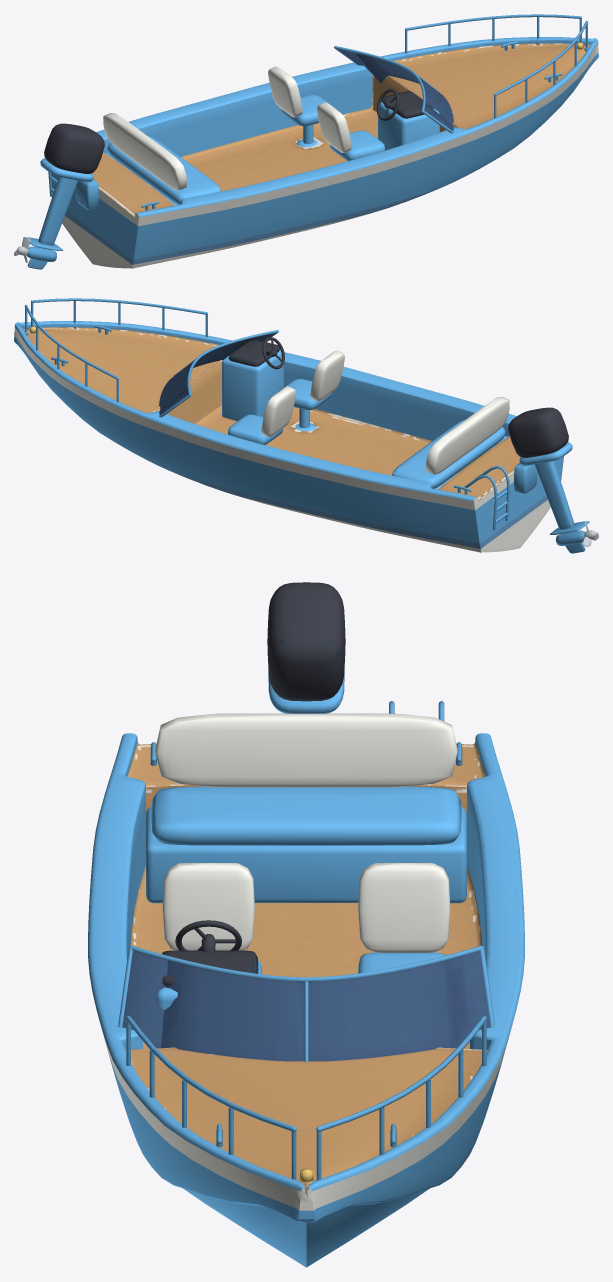
File: lancha-ventura-195-crossover-2022.glb
3 renders of one model, top to bottom at view 1: azimuth 30°, elevation 25°; view 2: azimuth 150°, elevation 25°; view 3: azimuth 270°, elevation 25°, orthographic. The views are drawn at different scales.
Parts seen in each view (by area): view 1: motorboat_body, motorboat_steering_wheel; view 2: motorboat_body, motorboat_steering_wheel; view 3: motorboat_body, motorboat_steering_wheel.
Part boxes in pixels (x1=…): motorboat_body: x1=23, y1=14, x2=598, y2=269; motorboat_steering_wheel: x1=376, y1=89, x2=399, y2=120; motorboat_body: x1=14, y1=298, x2=589, y2=553; motorboat_steering_wheel: x1=262, y1=337, x2=284, y2=369; motorboat_body: x1=88, y1=582, x2=524, y2=1267; motorboat_steering_wheel: x1=175, y1=920, x2=241, y2=952.
Size of the model in its own units: 5.94 by 1.45 by 1.94.
Materials: 3 (1 with a texture image).
